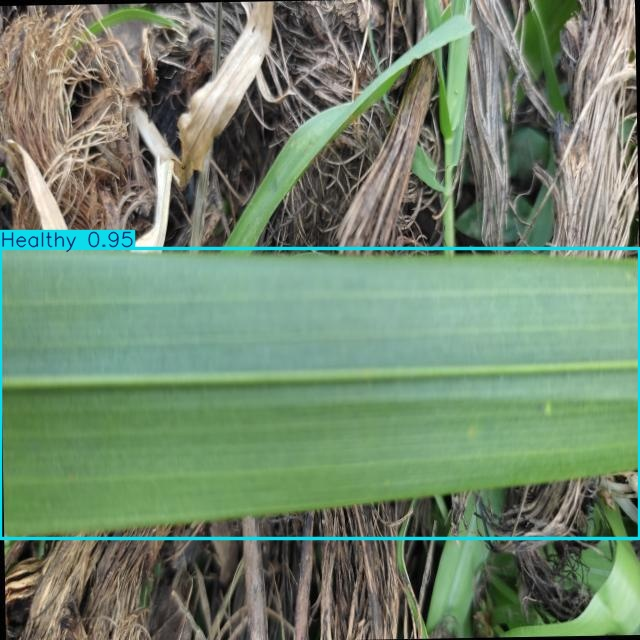Healthy: (0, 248, 640, 538)
